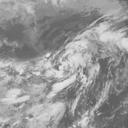cyclone: (35, 21, 118, 94)
